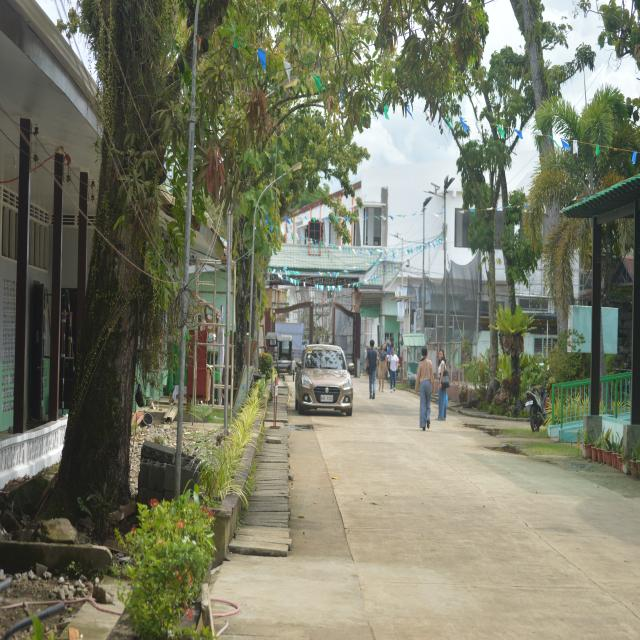person: (416, 347, 435, 430), (367, 340, 378, 398), (437, 350, 446, 420), (389, 348, 399, 391), (378, 345, 387, 392)
